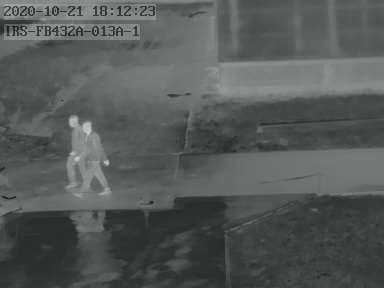person: (79, 118, 111, 191), (64, 116, 86, 191)
